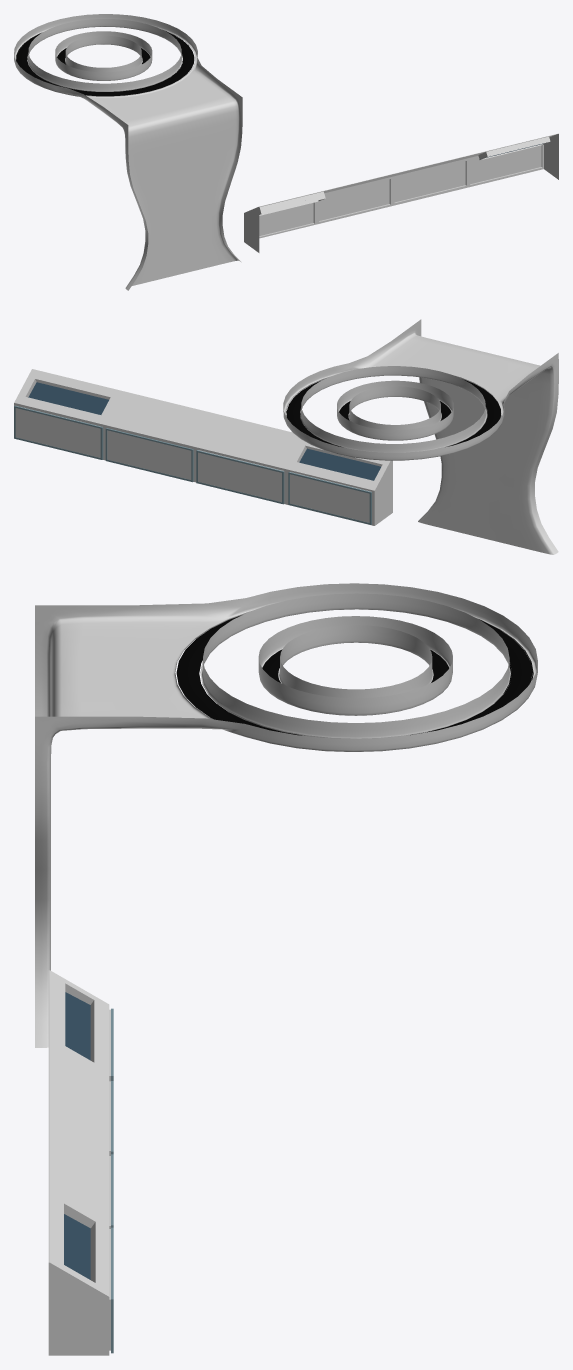
File: coridoor_light.fbx
3 renders of one model, top to bottom at view 1: azimuth 30°, elevation 25°; view 2: azimuth 150°, elevation 25°; view 3: azimuth 270°, elevation 25°, orthographic. The views are drawn at different scales.
Parts seen in each view (by area): view 1: polySurface943, polySurface905; view 2: polySurface943, polySurface905; view 3: polySurface943, polySurface905.
Boxes of the visible parts, x1=… form: polySurface943: x1=14, y1=14, x2=242, y2=290; polySurface905: x1=244, y1=133, x2=558, y2=252; polySurface943: x1=283, y1=319, x2=558, y2=554; polySurface905: x1=14, y1=369, x2=392, y2=525; polySurface943: x1=35, y1=583, x2=537, y2=1047; polySurface905: x1=48, y1=970, x2=113, y2=1355.
Bounding box in the file's own units: 1363 × 477 × 650.
